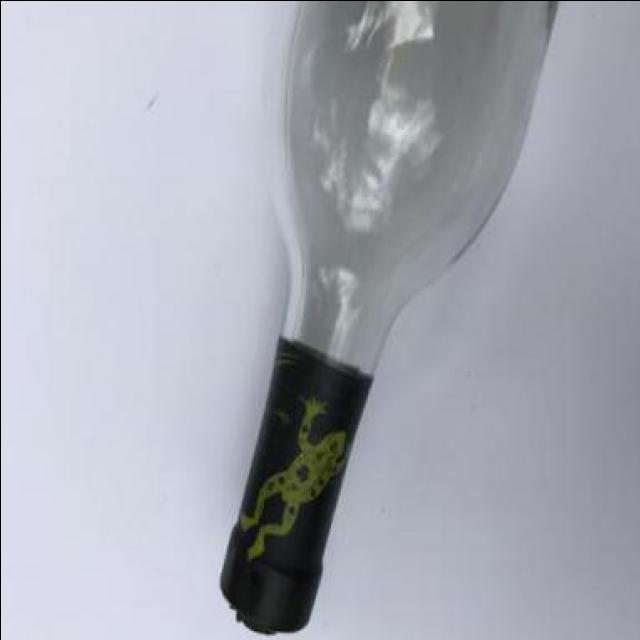kaca: (216, 0, 570, 635)
